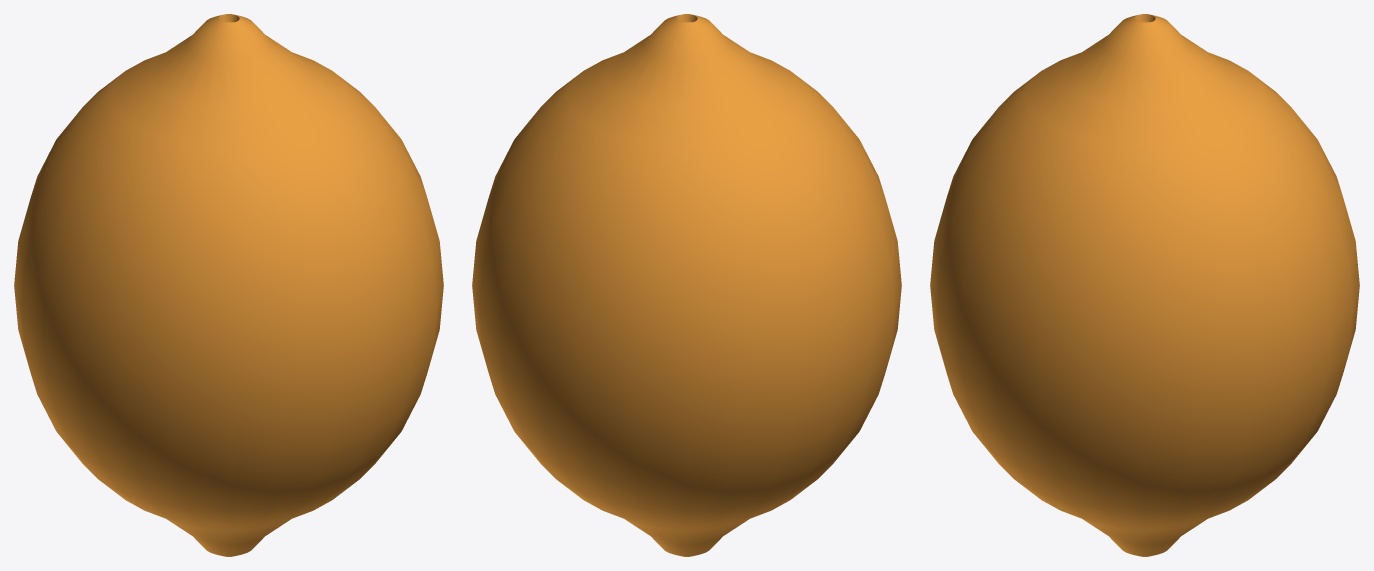
File: Whole_Lemon.fbx
3 renders of one model, left to right at view 1: azimuth 30°, elevation 25°; view 2: azimuth 150°, elevation 25°; view 3: azimuth 270°, elevation 25°, orthographic.
Visible parts, largest first — view 1: Lemon; view 2: Lemon; view 3: Lemon.
Boxes of the visible parts, left/top/right/bottom form: Lemon: left=14, top=14, right=443, bottom=556; Lemon: left=472, top=14, right=901, bottom=556; Lemon: left=930, top=14, right=1359, bottom=556.
Size of the model in its own units: 1131 by 1551 by 1131.
